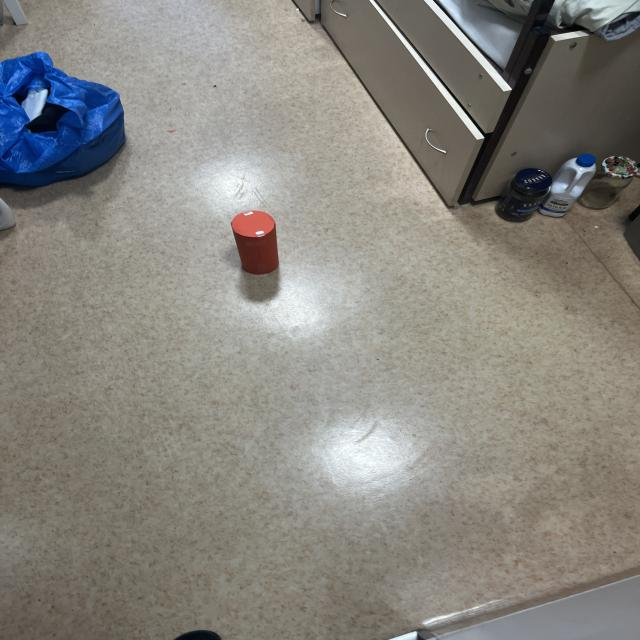przeszkoda: (231, 211, 279, 274)
